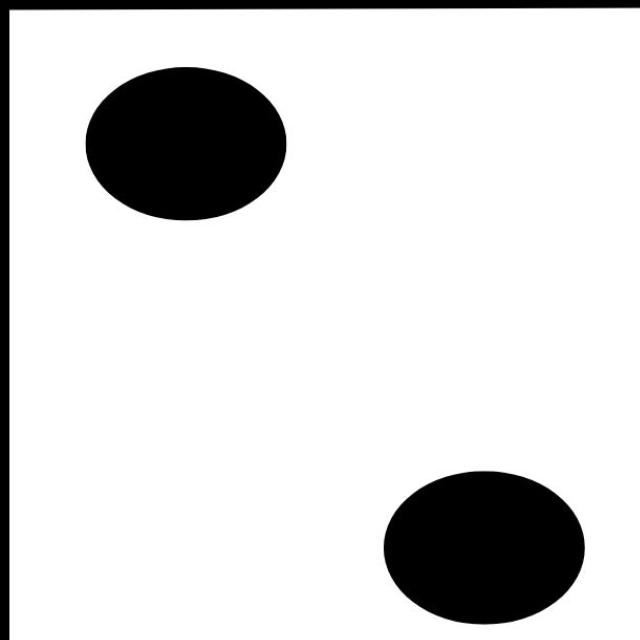one_cell_non_alphabet_kanila: (83, 65, 587, 626)
